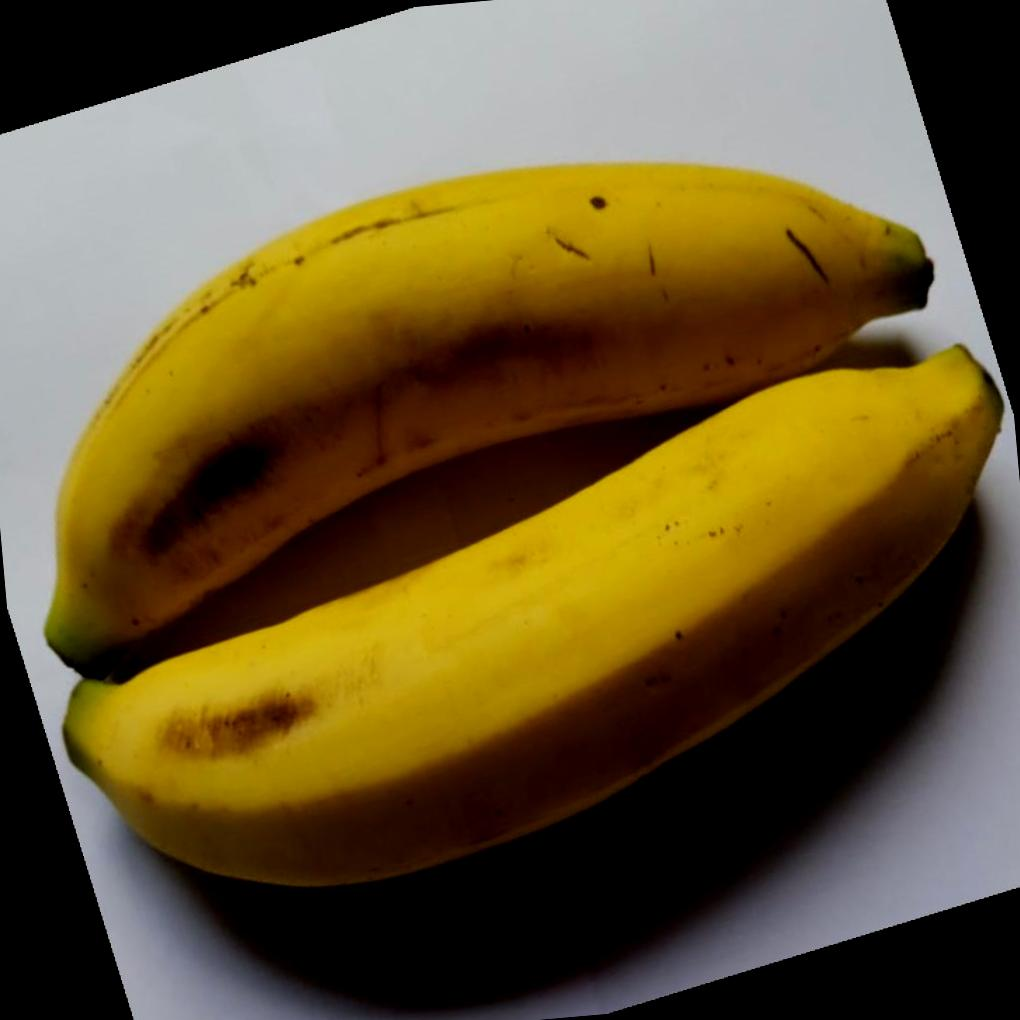Banana Ripe: (20, 111, 1020, 930)
